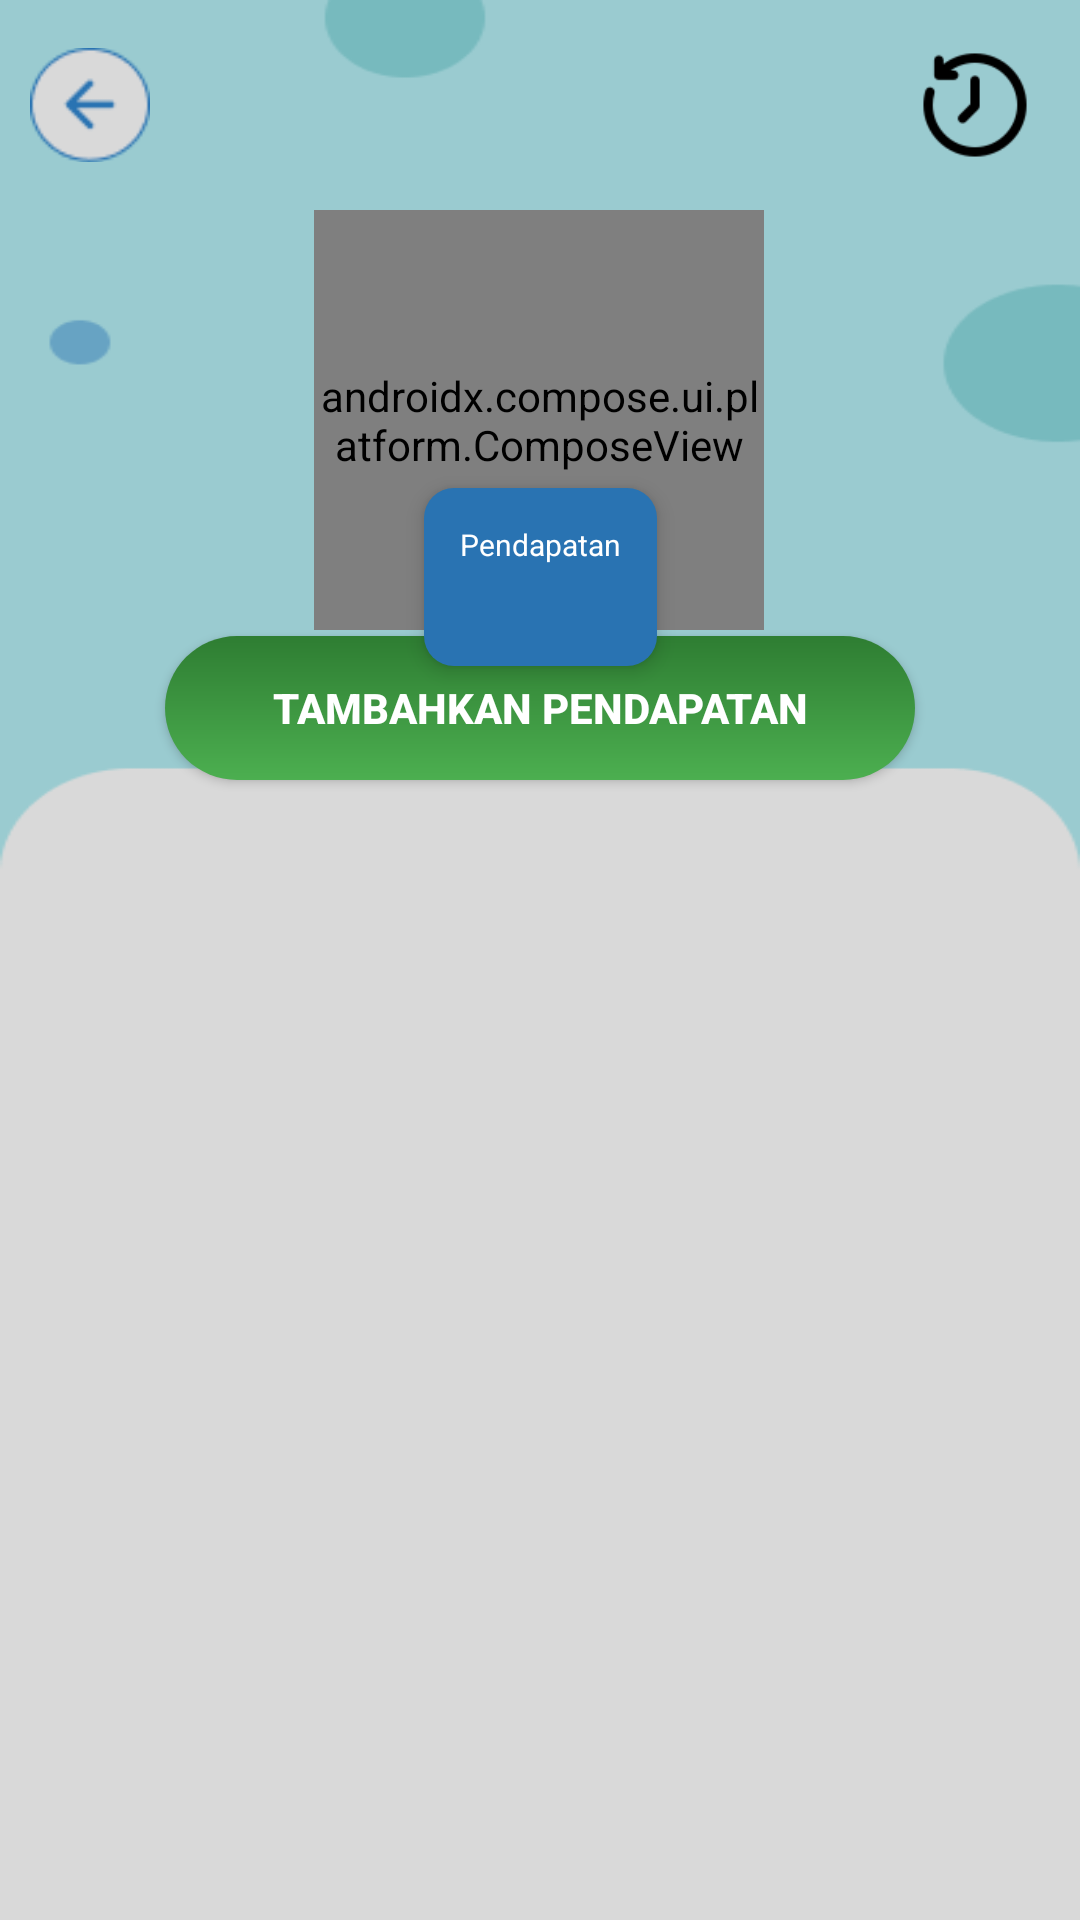

Named icons in this screenshot (1080×1920) and their bounding boxes, detection(x1, y1, x2, y2):
Back: detection(30, 48, 150, 162)
history: detection(923, 53, 1027, 157)
